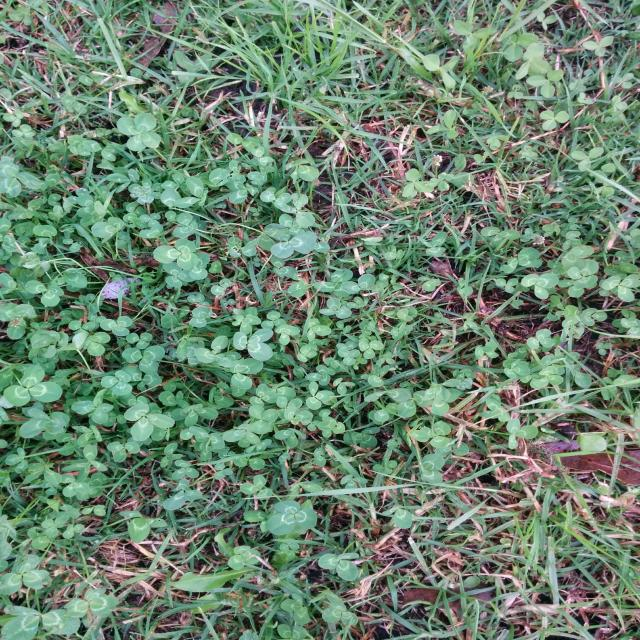Four Leaf Clover: (116, 112, 161, 151)
